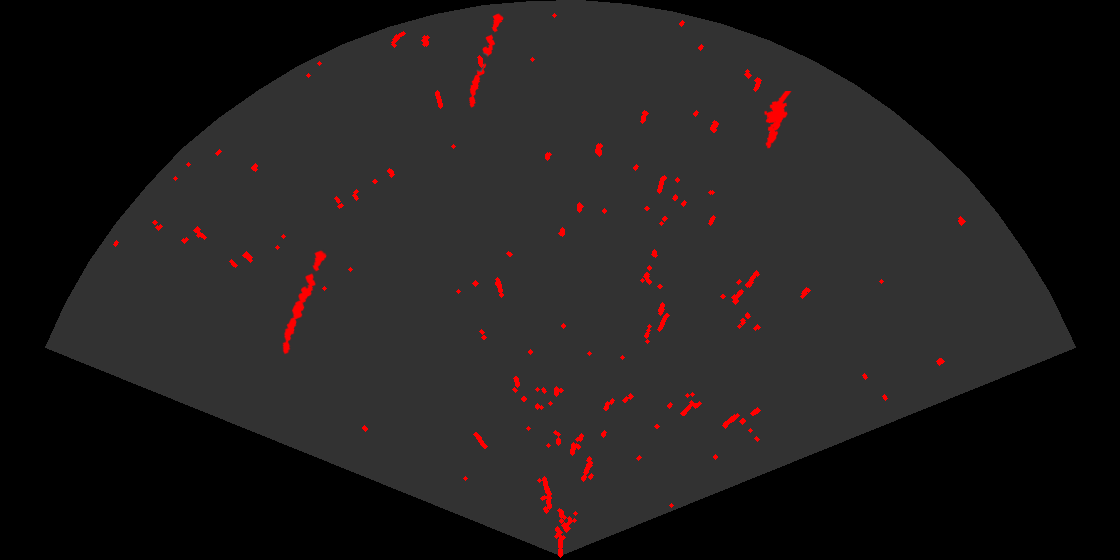chain: (281, 249, 328, 356), (467, 12, 505, 109)
frogman: (763, 91, 793, 150)
